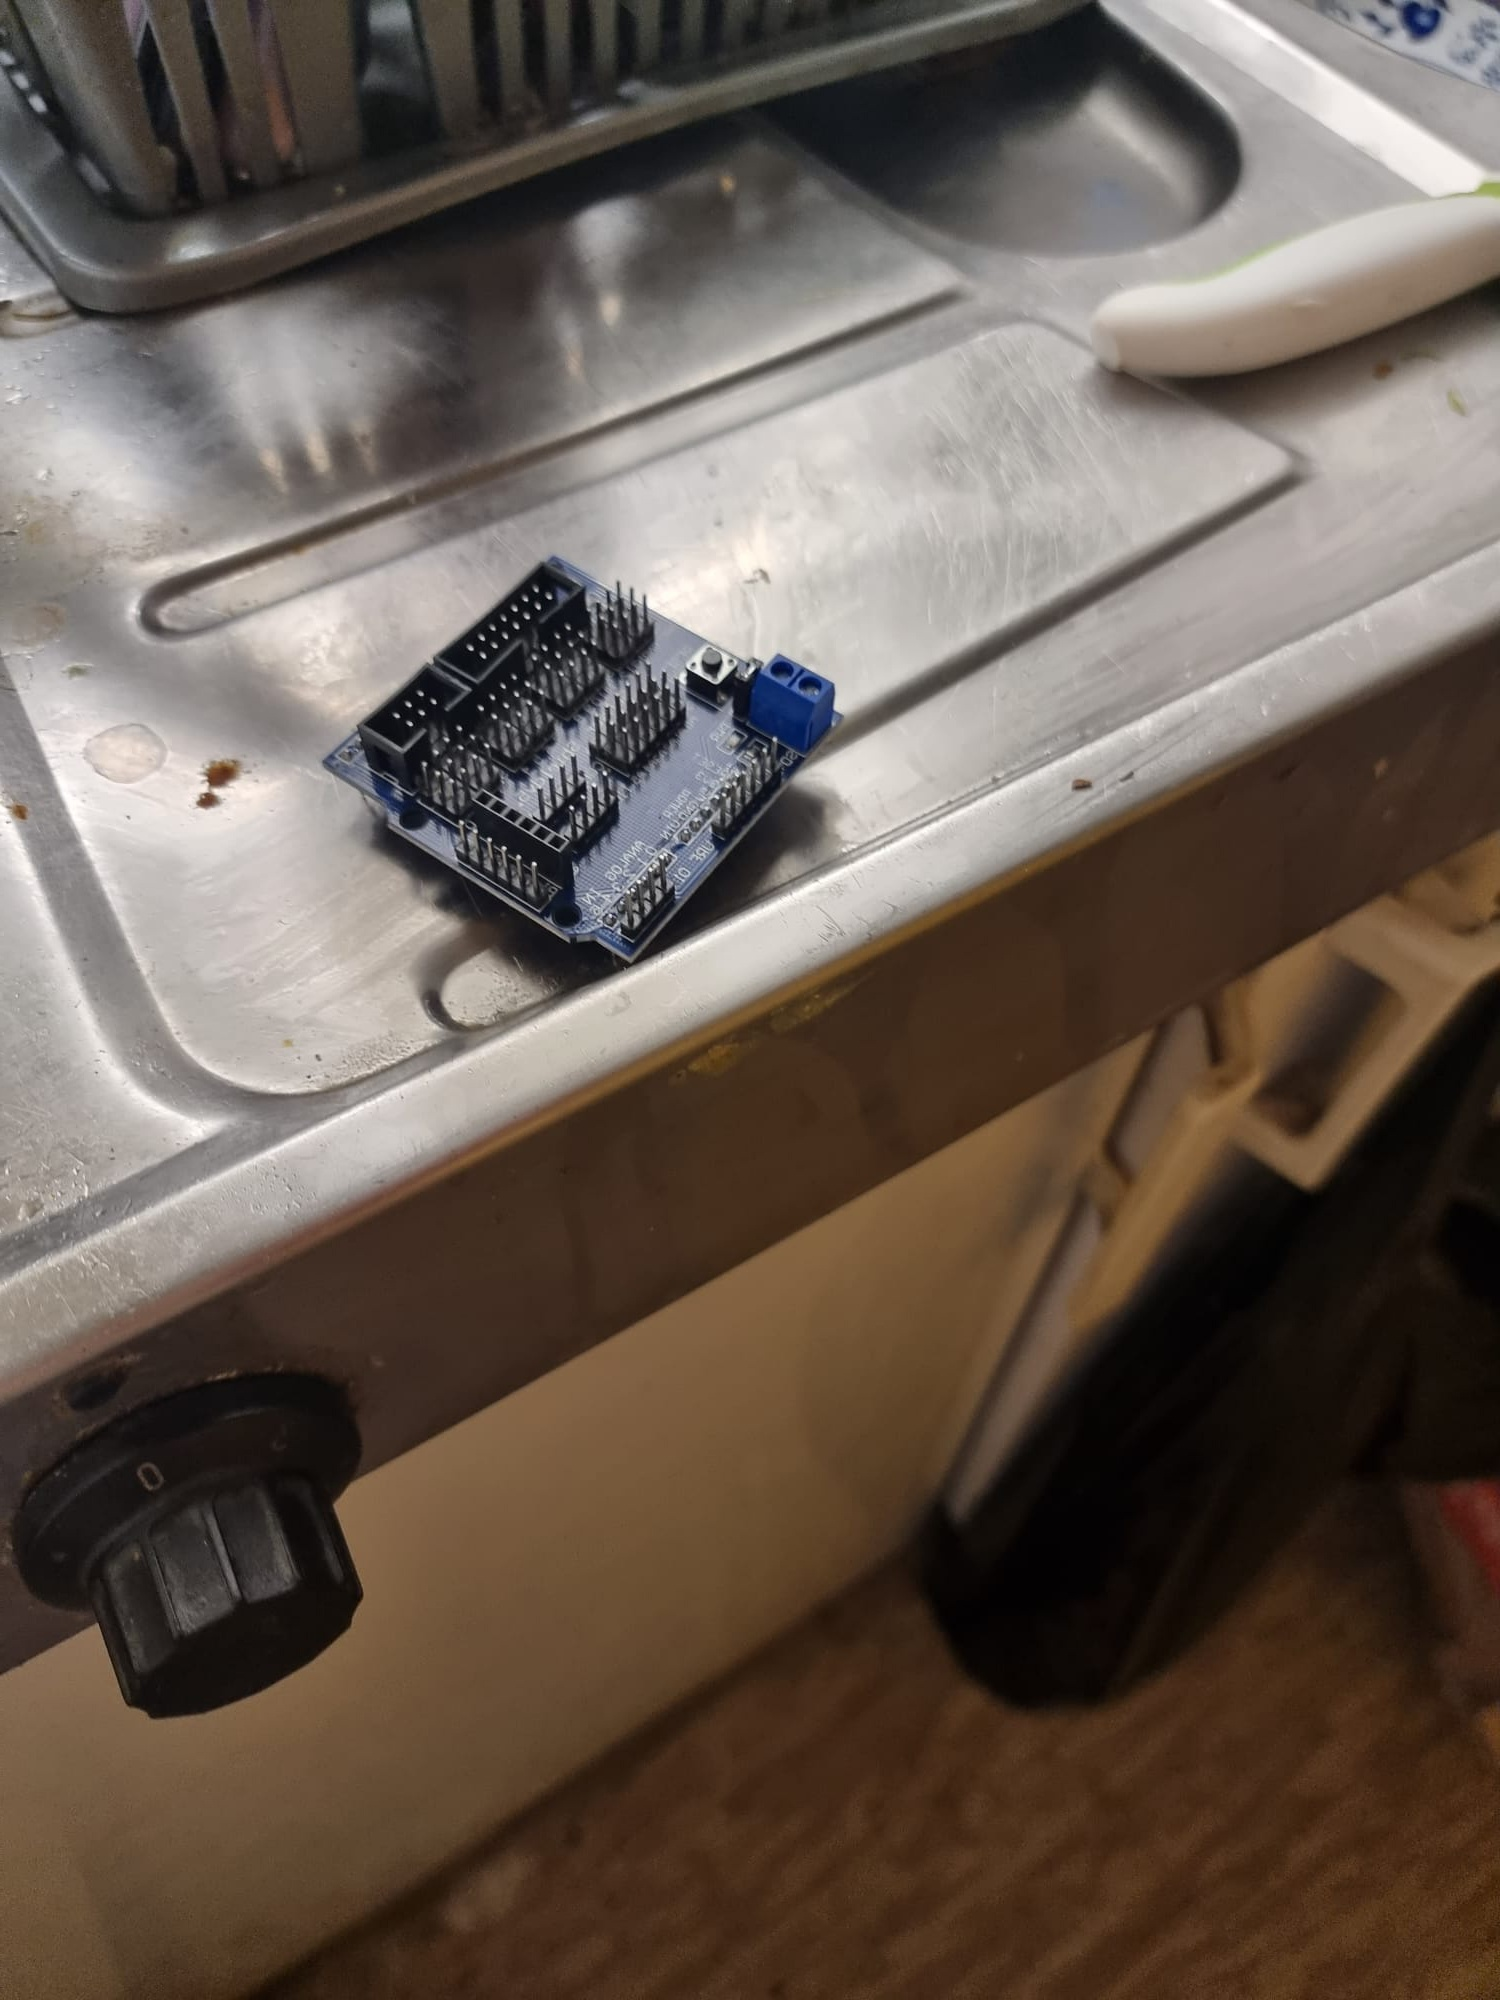5V EXPANSION: (314, 543, 816, 957)
